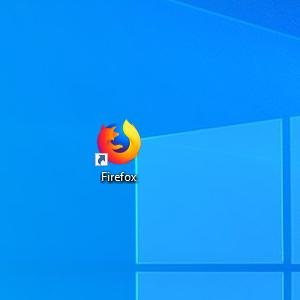firefox: (94, 119, 142, 167)
